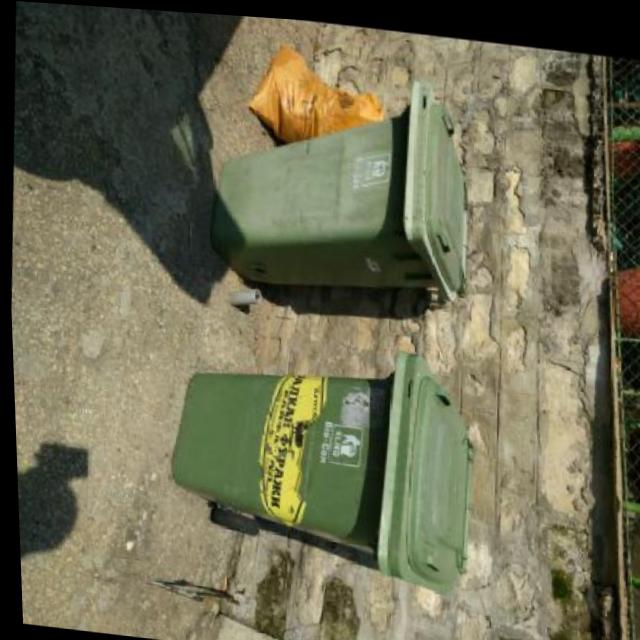other: (243, 37, 389, 155)
